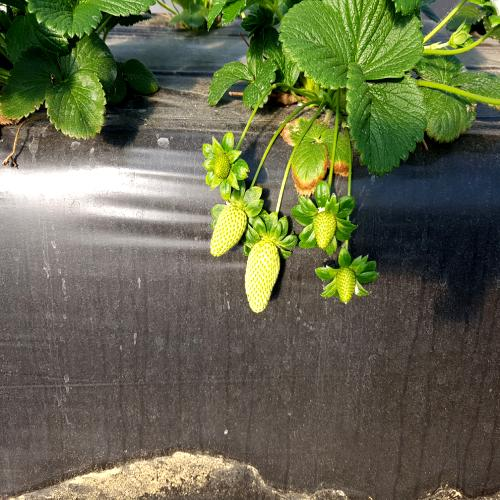unripe: (245, 235, 283, 321), (207, 200, 249, 262)
